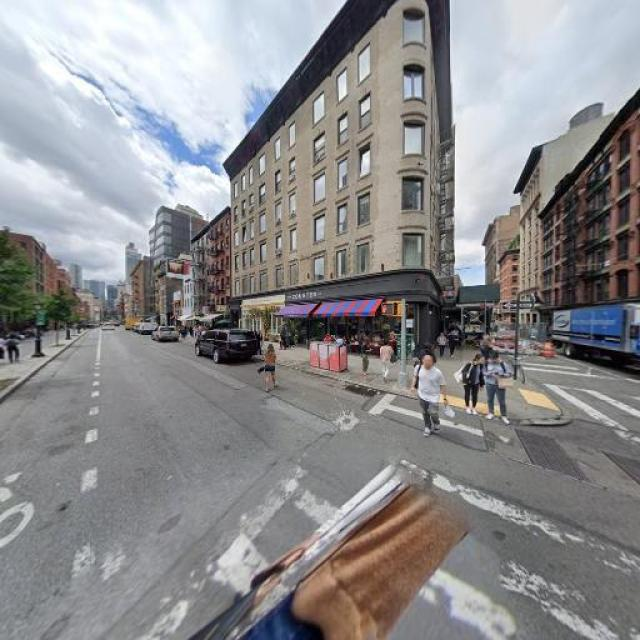Building: (232, 1, 444, 359), (212, 212, 229, 335), (194, 230, 207, 332)
